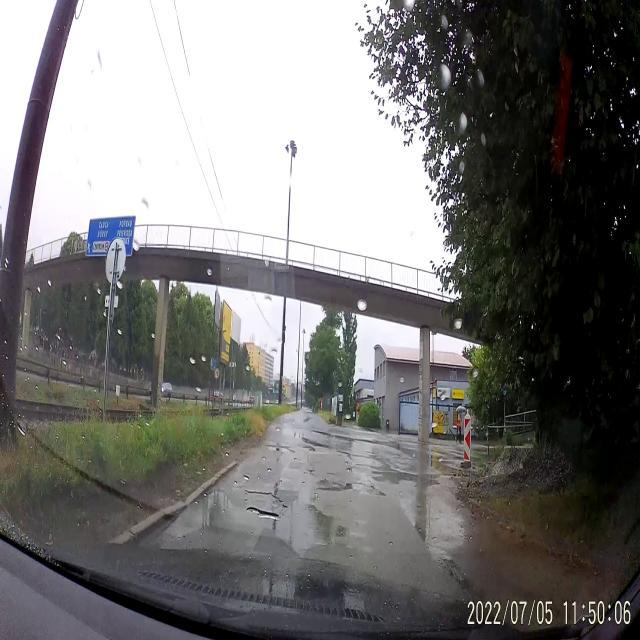Pothole: (275, 501, 340, 554), (242, 486, 282, 502), (346, 480, 384, 496), (266, 440, 295, 456), (318, 482, 343, 492), (308, 467, 317, 476)
